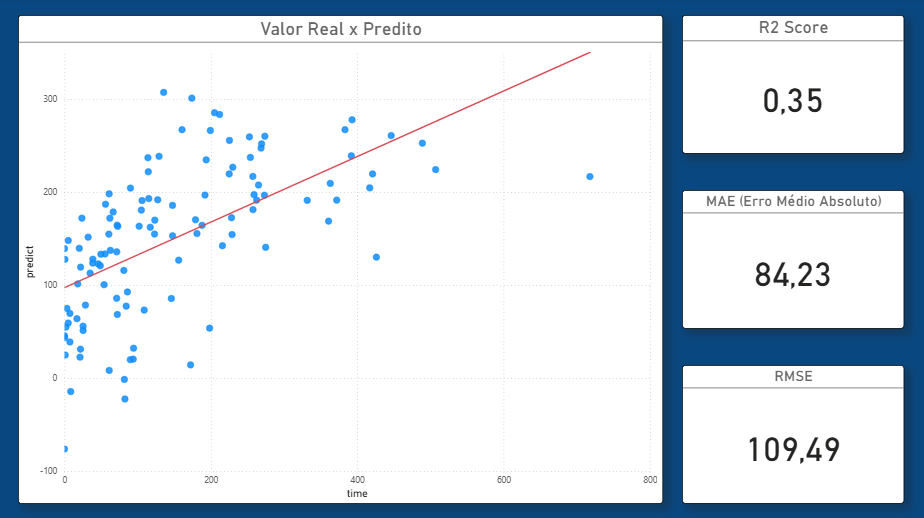

This screenshot's page, from the dashboard's own definition file:
{"tool":"powerbi","page":{"name":"Página 1","canvas":[1280,720],"ordinal":0},"visuals":[{"type":"scatterChart","title":"Valor Real x Predito","fields":{"X":["dados-processados.time"],"Y":["dados-processados.predict"]},"box":[27.5,23.4,887.7,673],"z":0},{"type":"card","title":"R2 Score","fields":{"Values":["dados-processados.R2 Score Modelo"]},"box":[941.4,23.4,305.6,191.3],"z":1},{"type":"card","title":"MAE (Erro Médio Absoluto)","fields":{"Values":["dados-processados.MAE (Erro Médio)"]},"box":[941.4,264.3,305.6,191.3],"z":2},{"type":"card","title":"RMSE","fields":{"Values":["dados-processados.RMSE"]},"box":[941.4,505.1,305.6,191.3],"z":3}]}

Visuals, with their boxes in screenshot pixels (x1, y1, x2, y2), scaled from the page's 1280x720 canvas onto the 924x518 screenshot:
"Valor Real x Predito" scatterChart: rect(20, 17, 661, 501)
"R2 Score" card: rect(680, 17, 900, 154)
"MAE (Erro Médio Absoluto)" card: rect(680, 190, 900, 328)
"RMSE" card: rect(680, 363, 900, 501)
